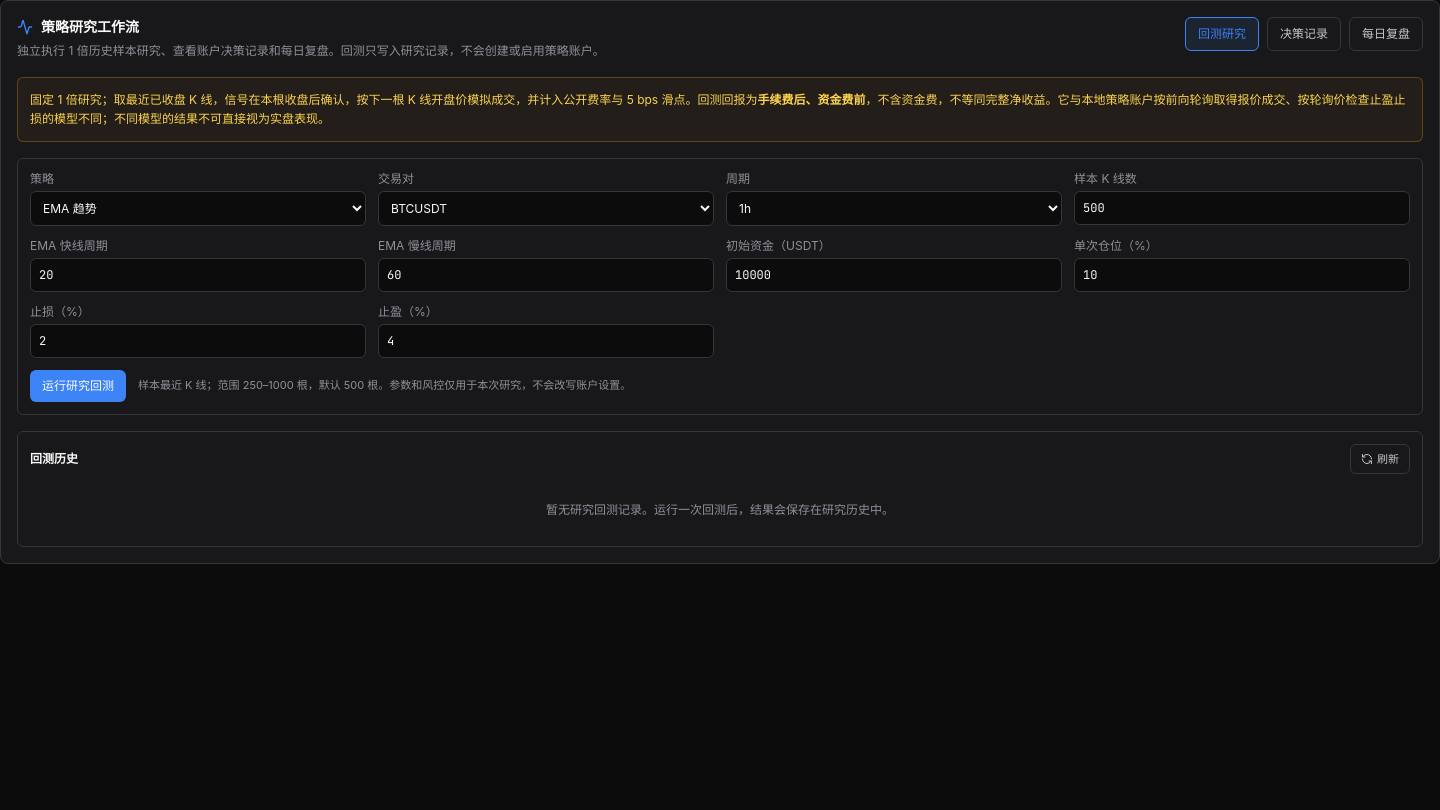
Scenario: keeps deterministic review separate and makes AI interpretation an explicit optional request
The width and height of the screenshot is (1440, 810).
Step 1. Click the tab "每日复盘" → (1386, 34), box [1349,17,1423,51]
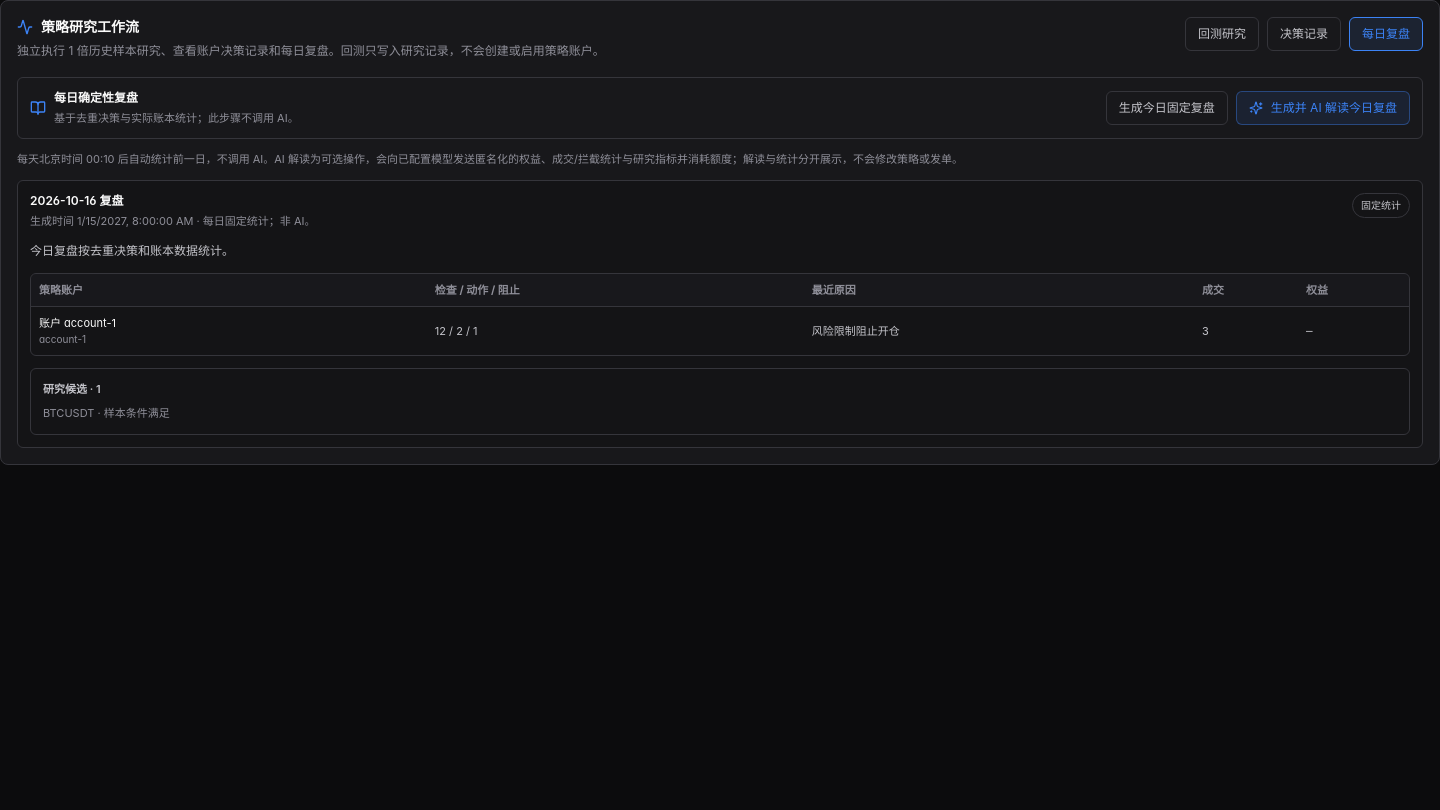
Result: the text "今日复盘按去重决策和账本数据统计" is shown at [30,243,234,258]
Result: the text "BTCUSDT · 样本条件满足" is shown at [43,406,170,420]
Result: the text "消耗额度" is shown at [17,152,963,166]
Step 2. Click the button "生成今日固定复盘" → (1167, 108), box [1106,91,1228,125]
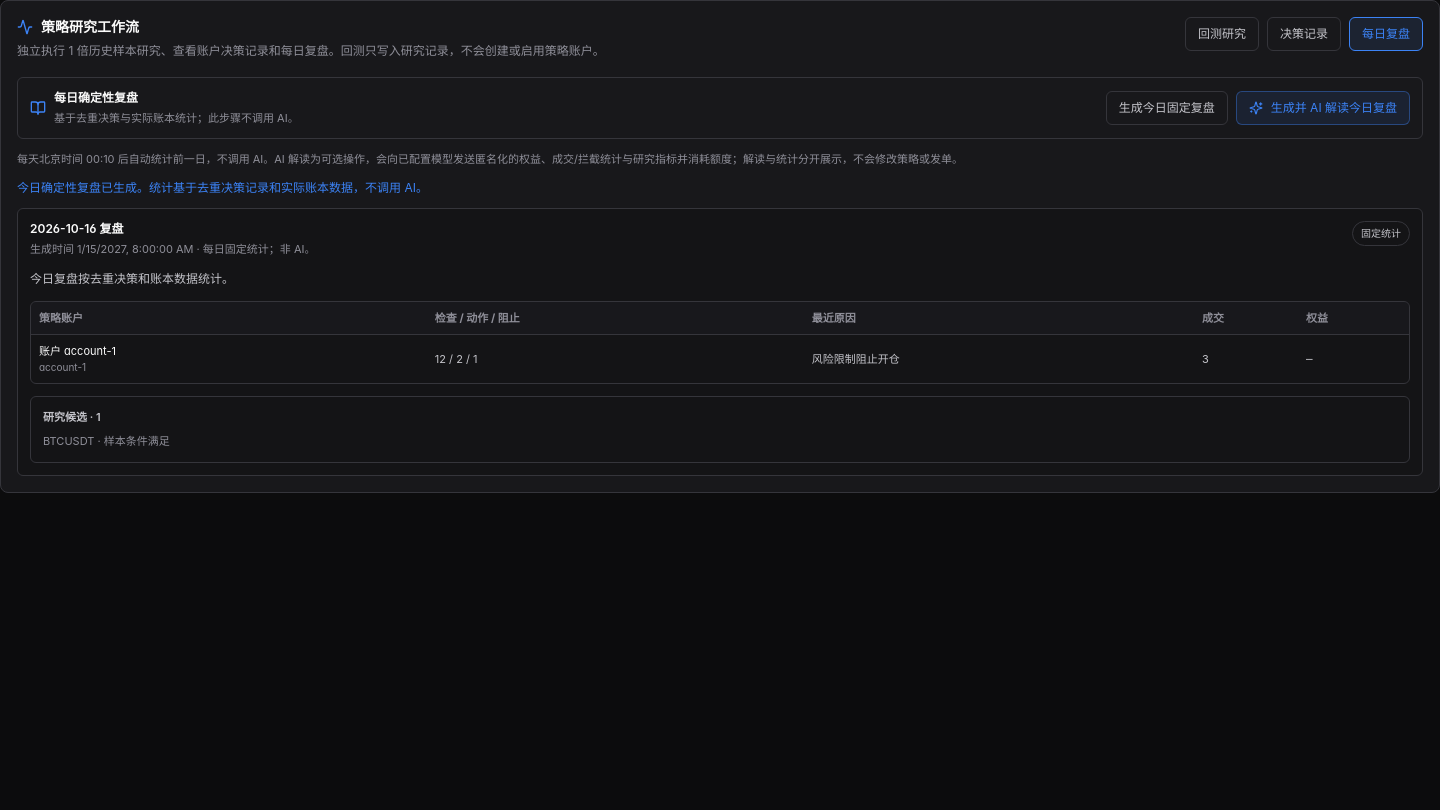
Step 3. Click the button "生成并 AI 解读今日复盘" → (1323, 108), box [1236,91,1410,125]
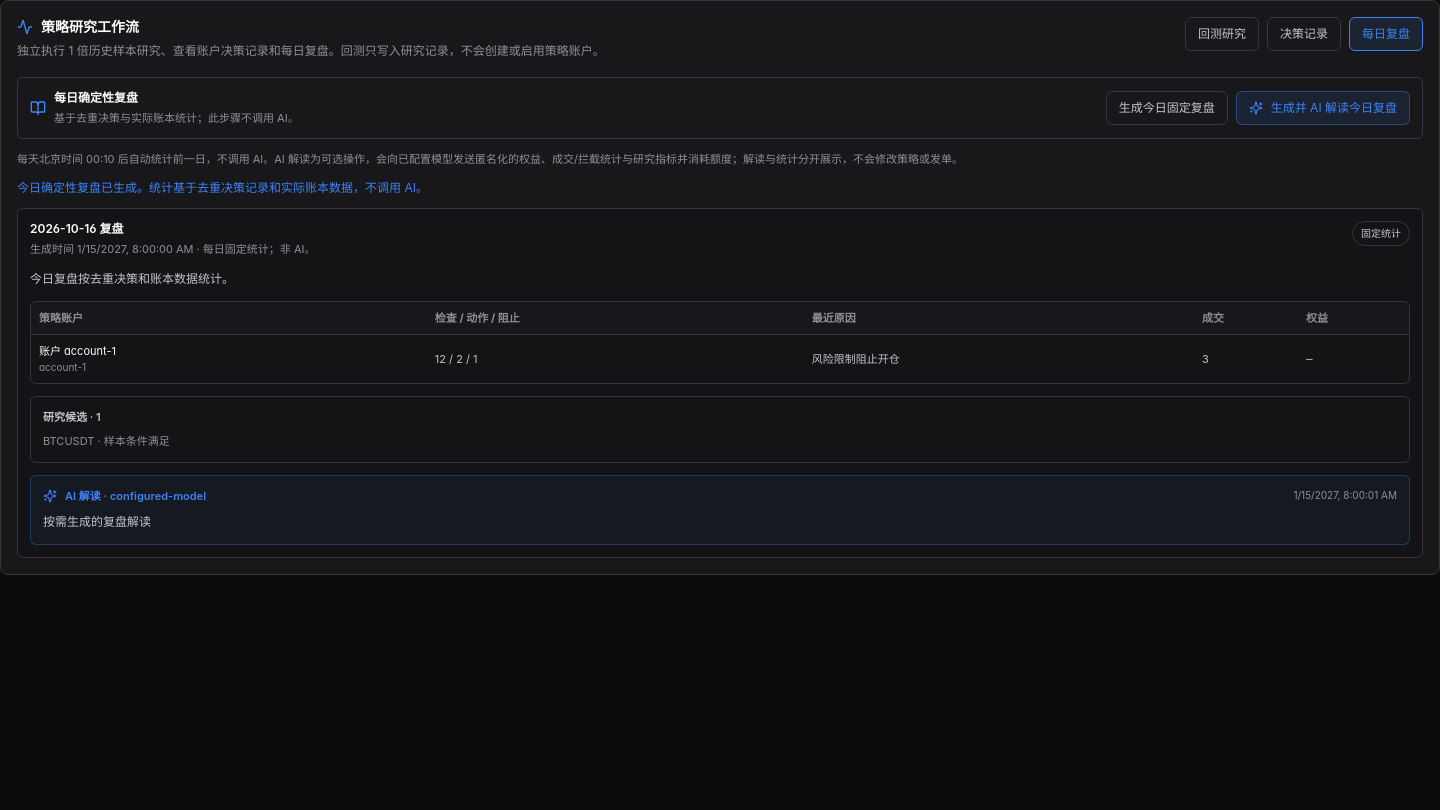
Result: the text "按需生成的复盘解读" is shown at [43,514,151,529]
Result: the text "configured-model" is shown at [110,488,206,502]
